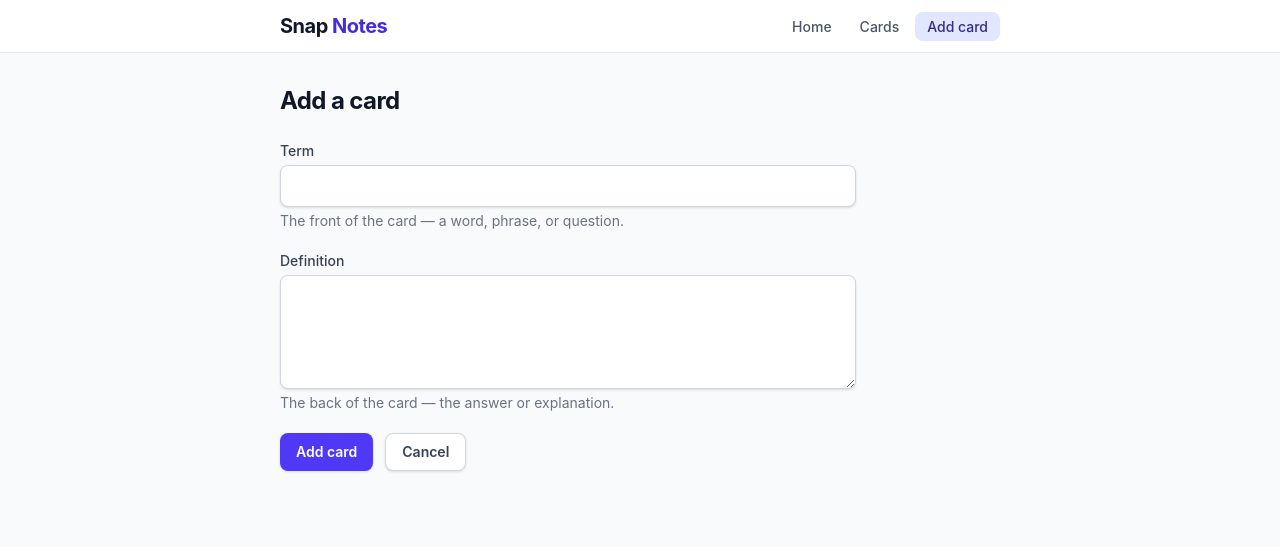
Test: CardFormPage › rejects a card with neither term nor definition
Click the button "Add card": point(327, 452) [280,433,373,471]
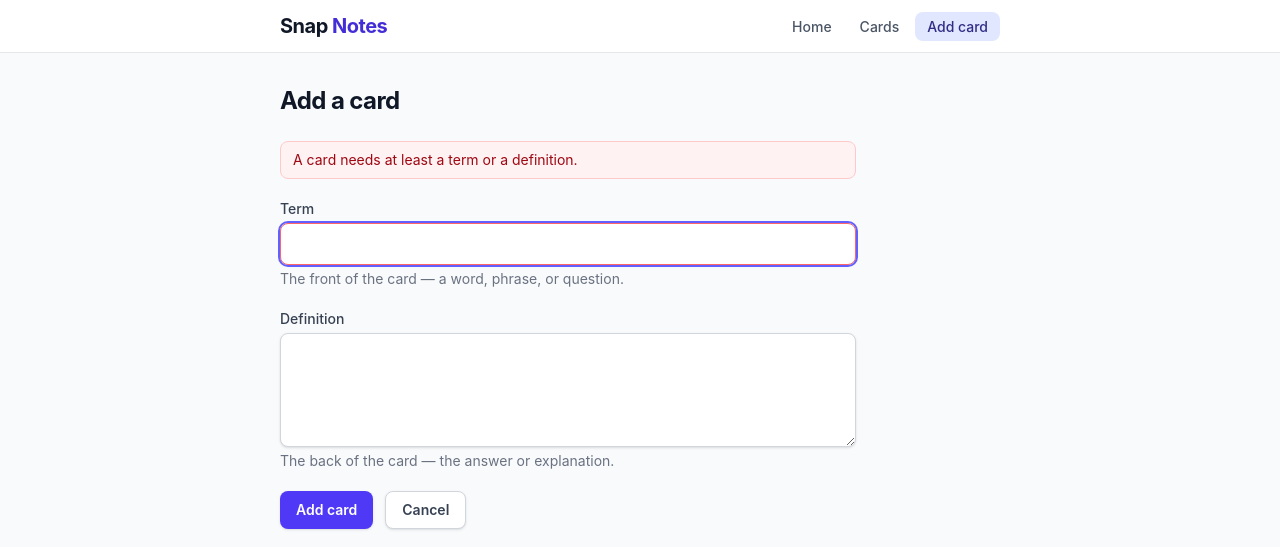
Now the message reads "A card needs at least a term or a definition.", box [293,151,578,168]
